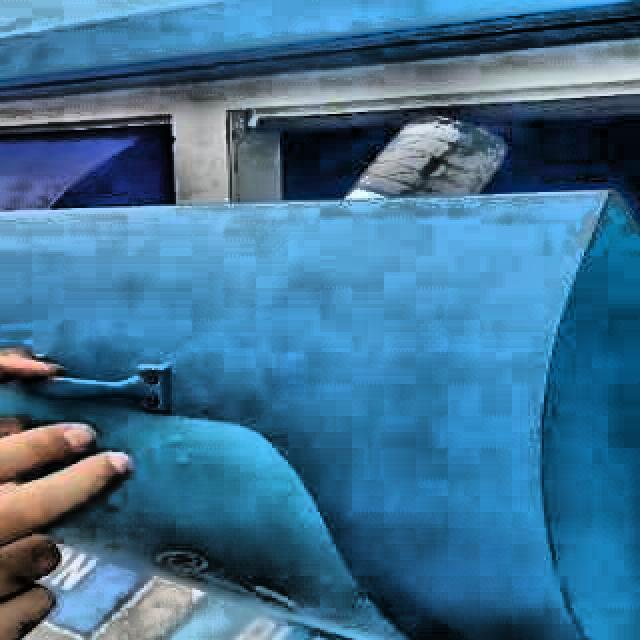plastic: (344, 116, 507, 200)
